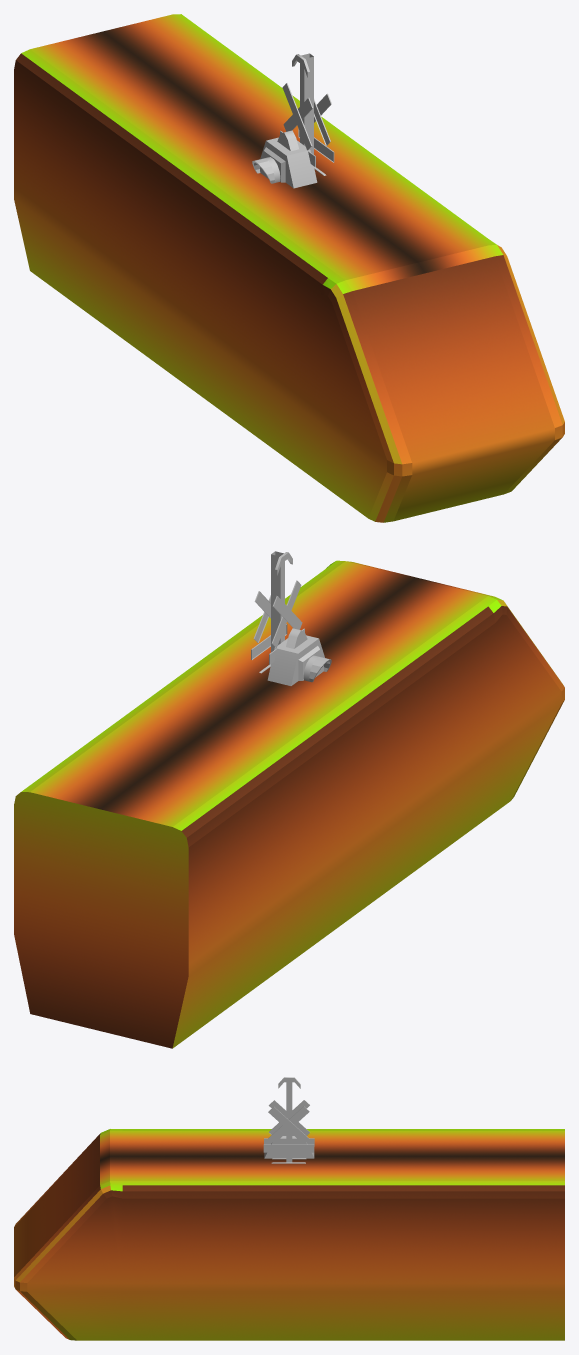
Rendered from Crossing signal.FBX.
3 renders of one model, top to bottom at view 1: azimuth 30°, elevation 25°; view 2: azimuth 150°, elevation 25°; view 3: azimuth 270°, elevation 25°, orthographic. The views are drawn at different scales.
Parts seen in each view (by area): view 1: Box001, Object020, Object011; view 2: Box001, Object020, Object011; view 3: Box001, Object020, Object011.
Part boxes in pixels (x1,y1,x2,y2): Box001: [14, 14, 564, 522]; Object020: [280, 53, 334, 175]; Object011: [252, 137, 317, 188]; Box001: [14, 560, 564, 1048]; Object020: [251, 551, 304, 673]; Object011: [267, 635, 331, 685]; Box001: [14, 1129, 564, 1340]; Object020: [263, 1077, 314, 1163]; Object011: [264, 1136, 314, 1158].
Bounding box in the file's own units: 13.65 × 24.99 × 51.77.
